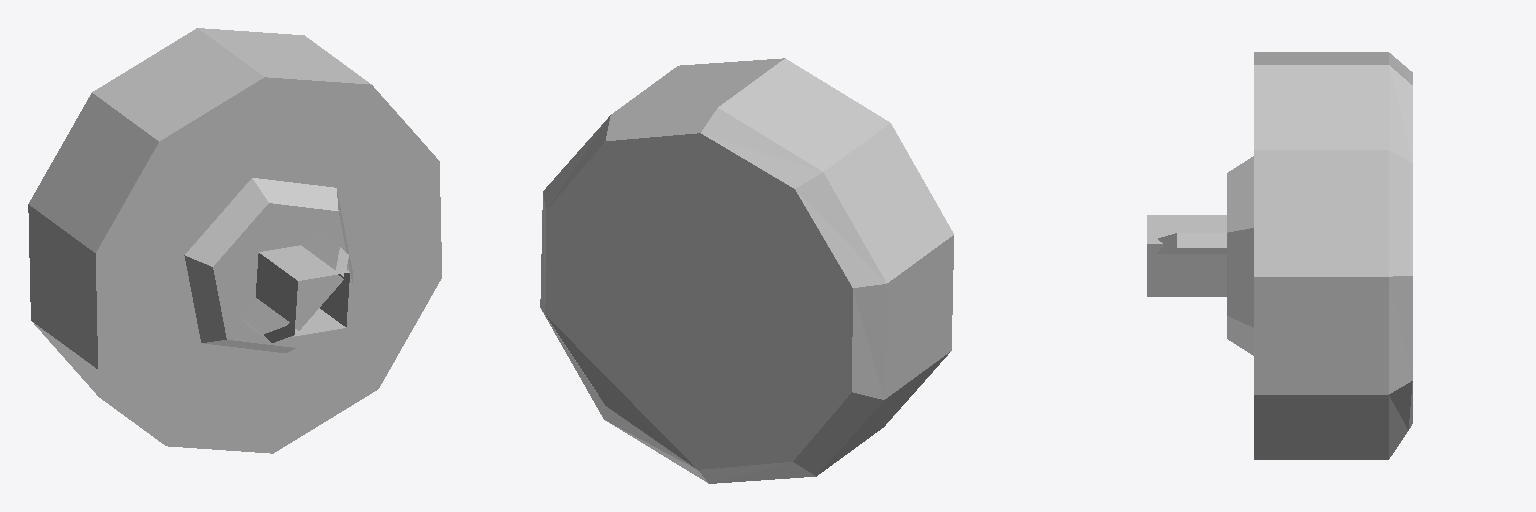
The model's file is wheel204.obj.
3 renders of one model, left to right at view 1: azimuth 30°, elevation 25°; view 2: azimuth 150°, elevation 25°; view 3: azimuth 270°, elevation 25°, orthographic.
Parts seen in each view (by area): view 1: wheel_low_textures; view 2: wheel_low_textures; view 3: wheel_low_textures.
Boxes of the visible parts, x1,y1,x2,y2 form: wheel_low_textures: [28, 28, 441, 453]; wheel_low_textures: [540, 58, 953, 483]; wheel_low_textures: [1147, 52, 1412, 459].
Size of the model in its own units: 1.5 by 1.56 by 0.9907.